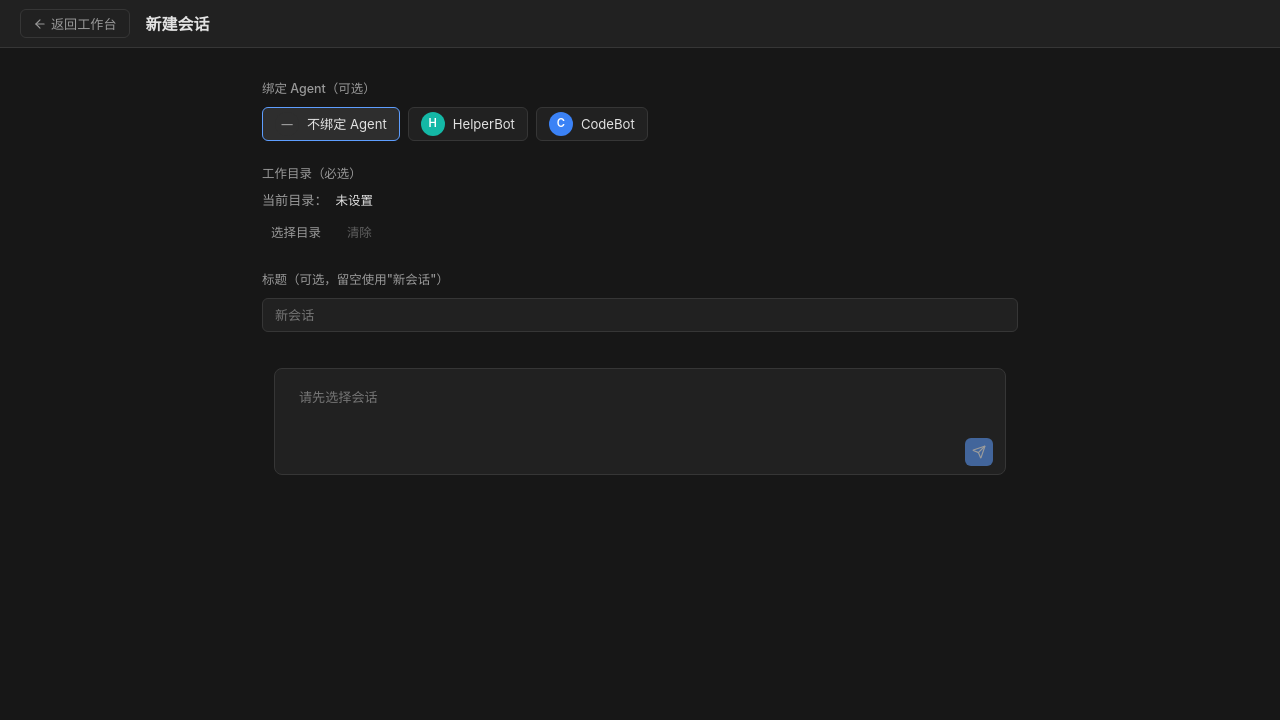
Test: NewSessionPage › 在草稿状态执行会话命令时显示稳定反馈且不创建 Session
The image size is (1280, 720).
Click the button labelled "选择目录".
click(296, 233)  # box [262,219,330,247]
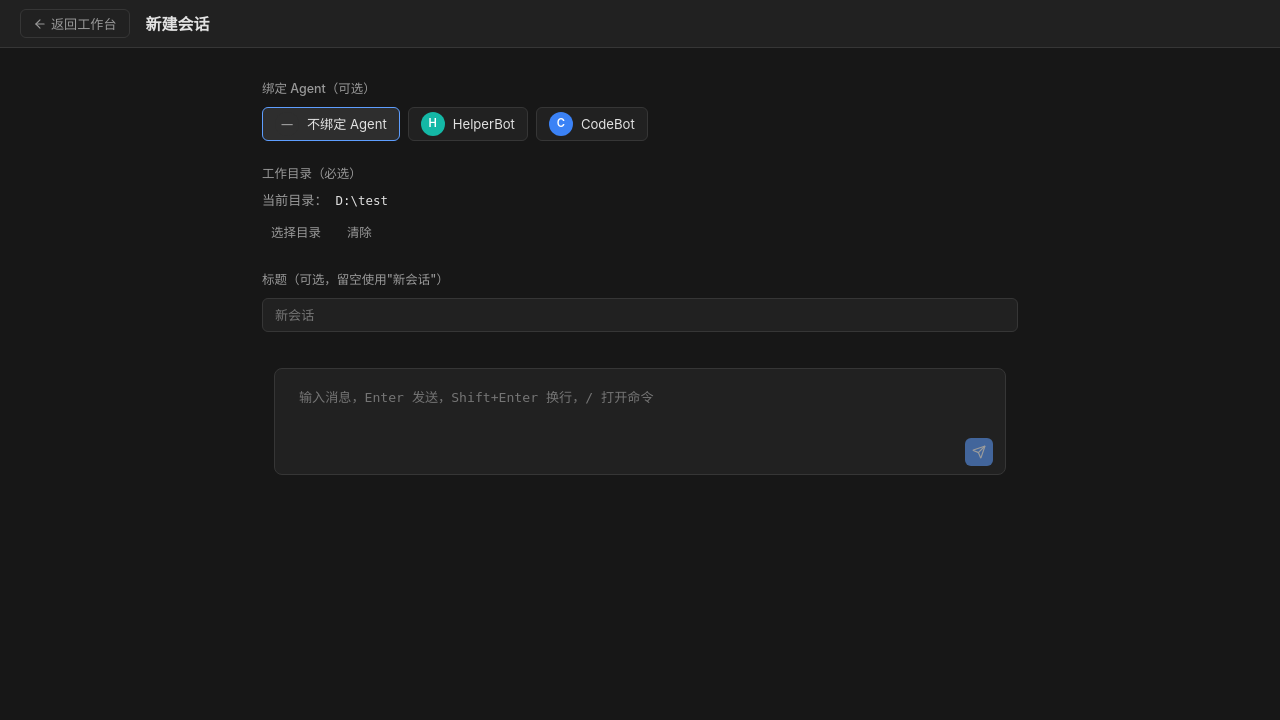
Check: the text with test id "directory-picker-value" reads "D:\\test", box [336,193,388,208]
Type "/compact" into the text box named "消息输入".
click(640, 402); type("/compact")  # box [287,379,993,425]
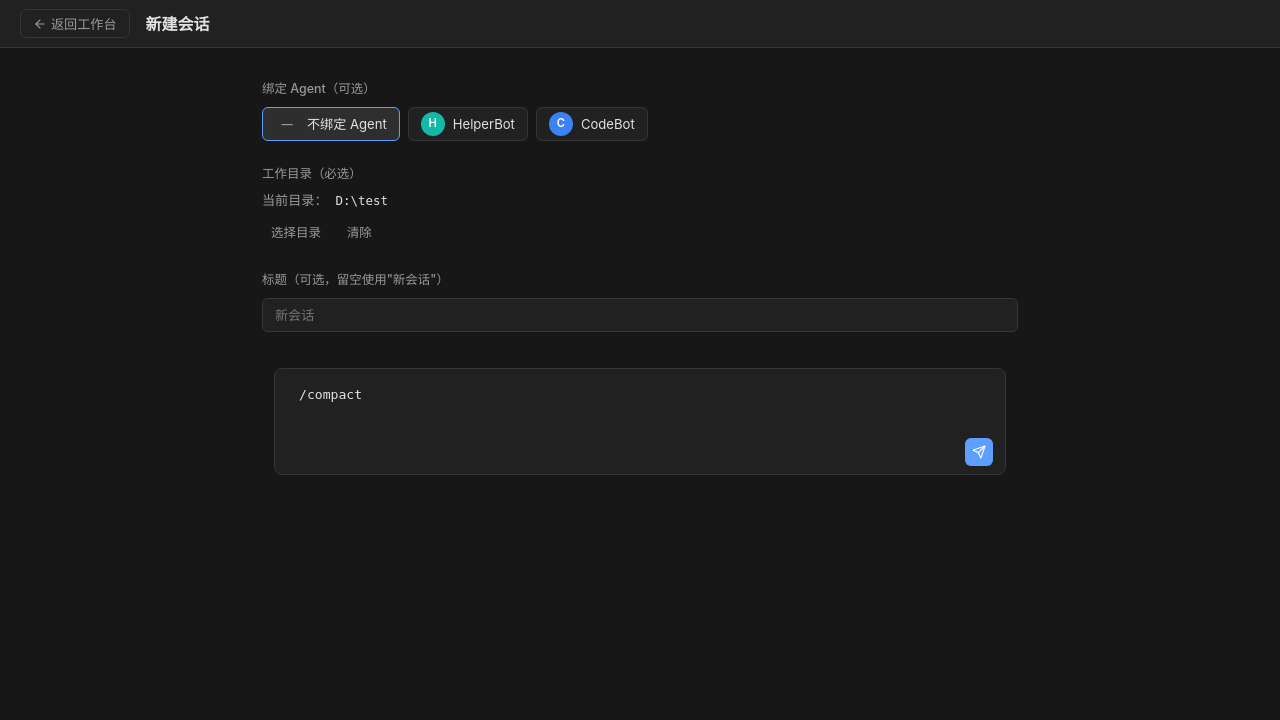
Press Enter in the text box named "消息输入", box [287,379,993,425]
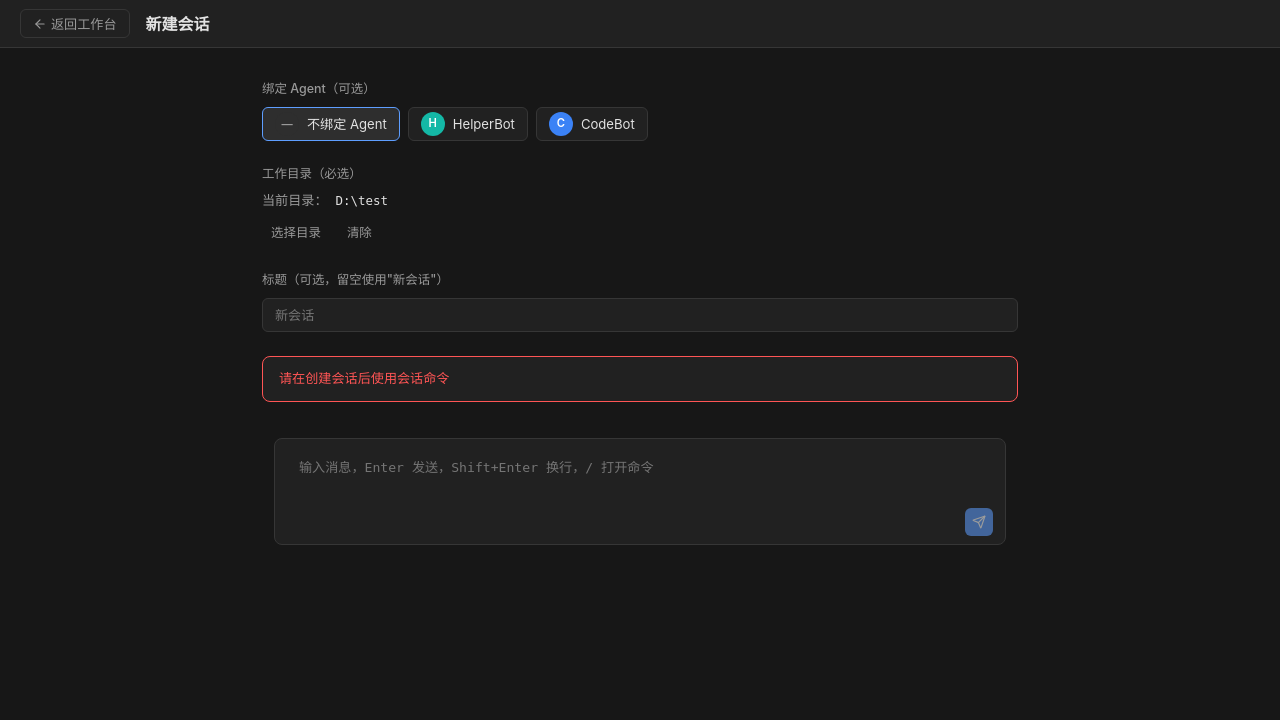
Check: the message with test id "new-session-error" shows "创建会话后", box [279,370,449,386]
